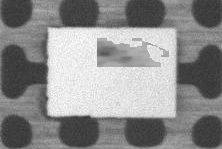DIE_INK: (145, 26, 222, 45)
